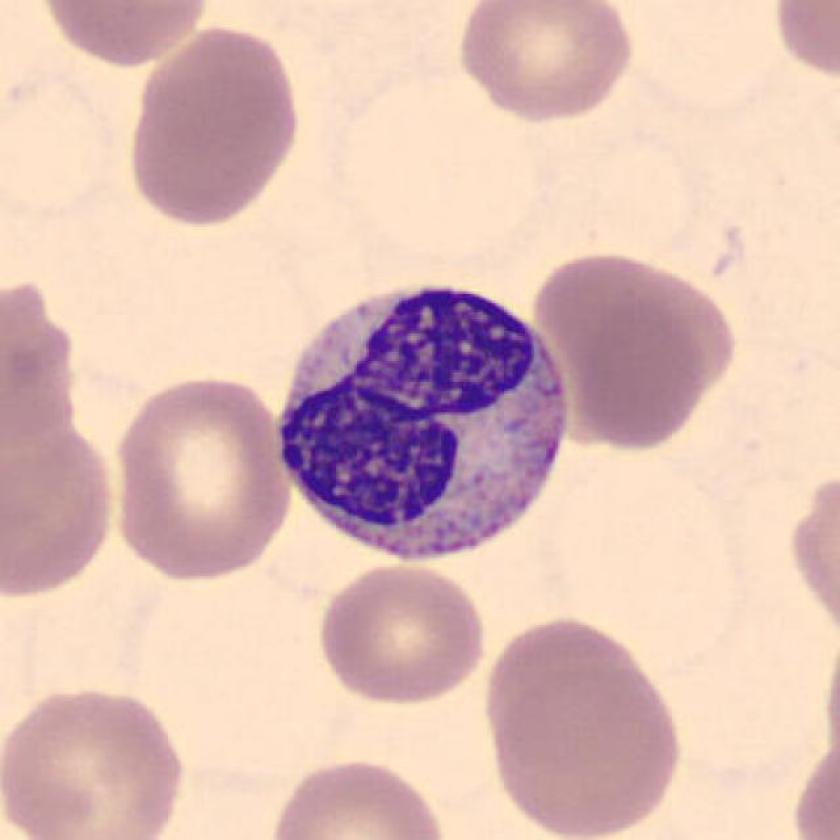neutrophil: (276, 287, 575, 569)
